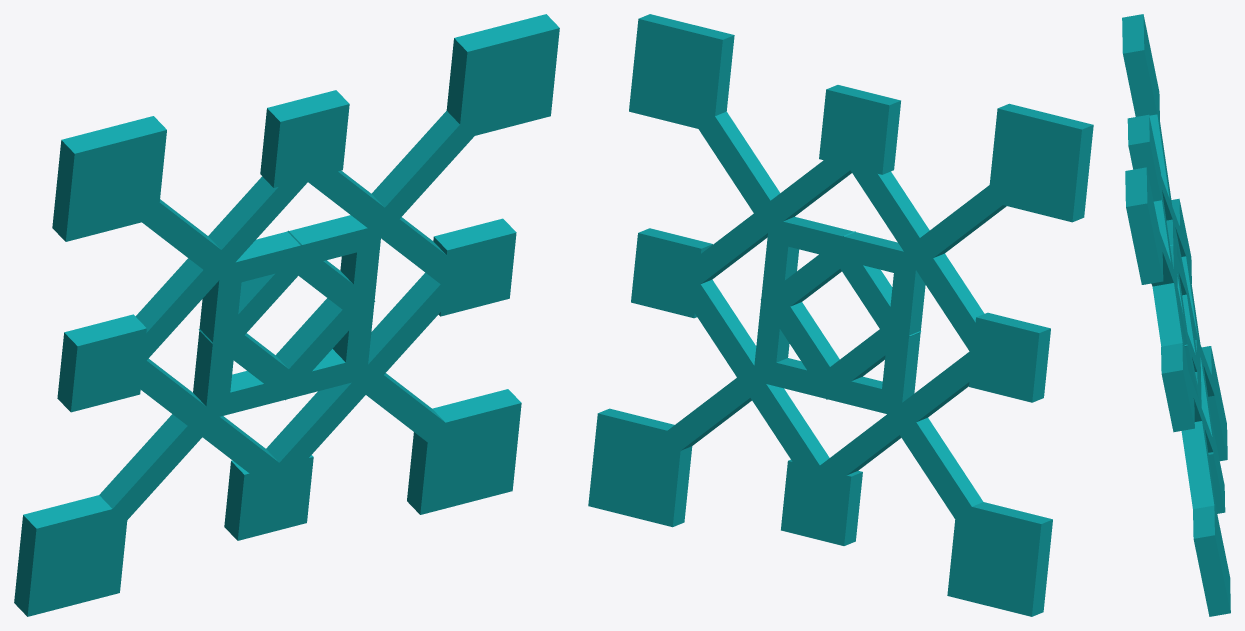
File: ui_icon_ectorune.gltf
3 renders of one model, left to right at view 1: azimuth 30°, elevation 25°; view 2: azimuth 150°, elevation 25°; view 3: azimuth 270°, elevation 25°, orthographic. The views are drawn at different scales.
Parts seen in each view (by area): view 1: ui_icon_ectorune; view 2: ui_icon_ectorune; view 3: ui_icon_ectorune.
Part boxes in pixels (x1,y1,x2,y2): ui_icon_ectorune: (14, 14, 559, 616); ui_icon_ectorune: (588, 14, 1093, 616); ui_icon_ectorune: (1122, 14, 1230, 616).
Size of the model in its own units: 12.76 by 12.68 by 3.
1 material, 1 textured.
